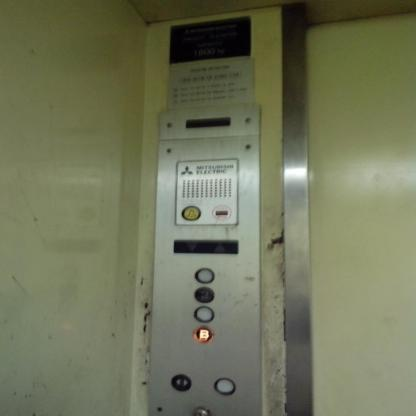2: (193, 285, 215, 303)
B: (193, 325, 214, 343)
alarm: (181, 204, 202, 221)
empty: (213, 378, 236, 395), (193, 267, 215, 283), (193, 306, 214, 322)
led: (172, 238, 239, 254), (184, 116, 233, 128)
open: (170, 373, 191, 392)
unknown: (211, 204, 232, 220)
